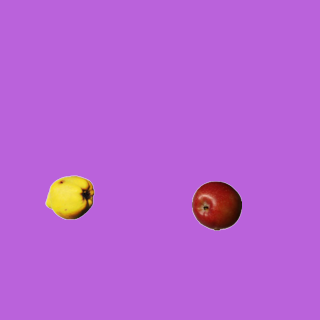Apple Braeburn: (191, 180, 241, 230)
Quince: (44, 172, 94, 222)
